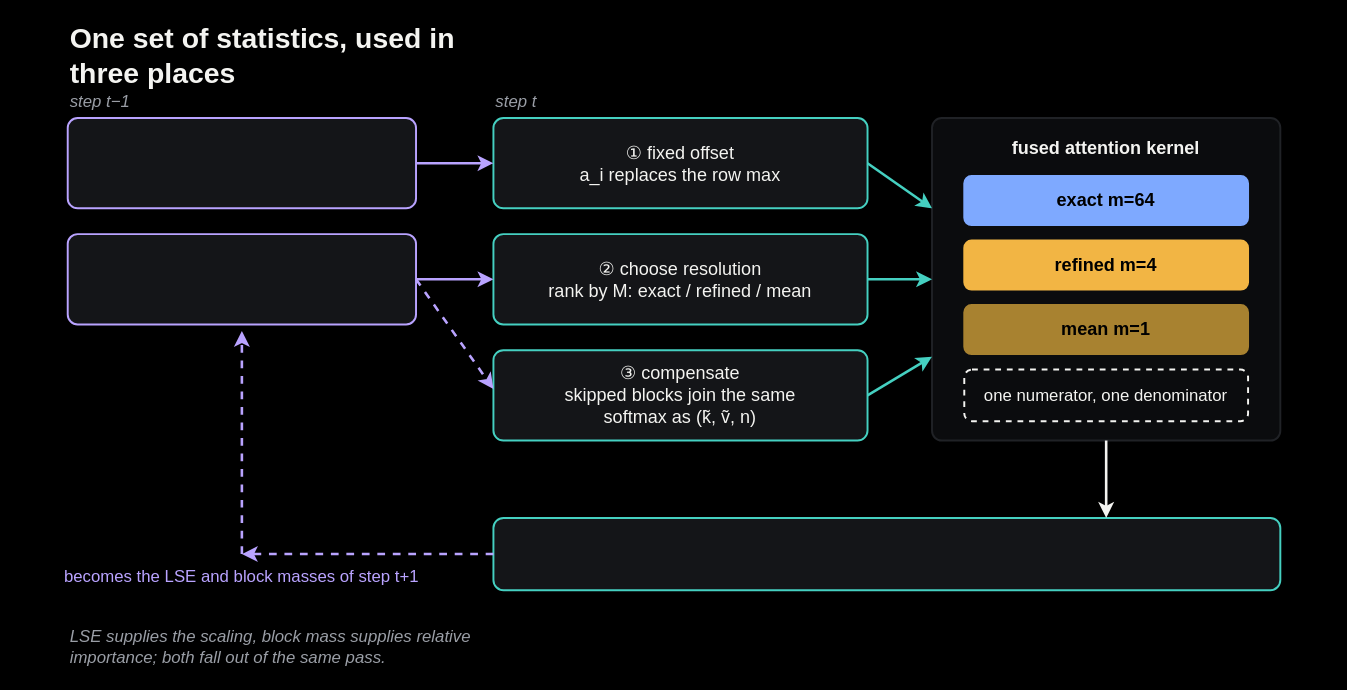
Some shapes in this 1347 by 690 pixel diagram are drawn without their labels. The shapes that lost their labels are listed below. From the top down, each one's centre as x and y in pixels, then its label:
pixel 241 162: LSE a_i (softmax scaling)
pixel 241 279: block-mass map M_ab (relative importance of blocks)
pixel 886 553: output õ + new LSE, new block masses
